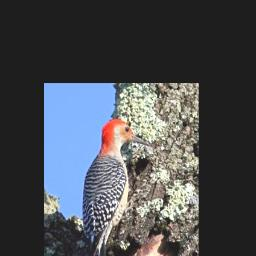Woodpecker: (81, 117, 150, 256)
